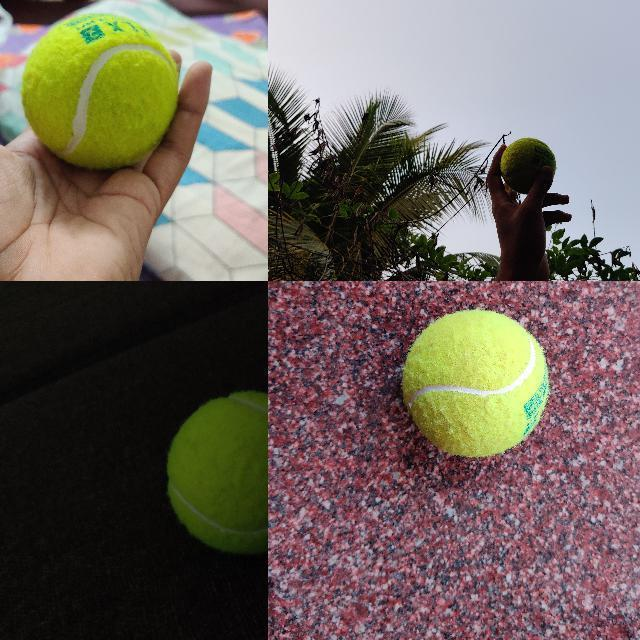tennis-ball: (21, 12, 178, 168), (401, 310, 549, 455), (165, 390, 267, 554), (500, 136, 557, 194)
